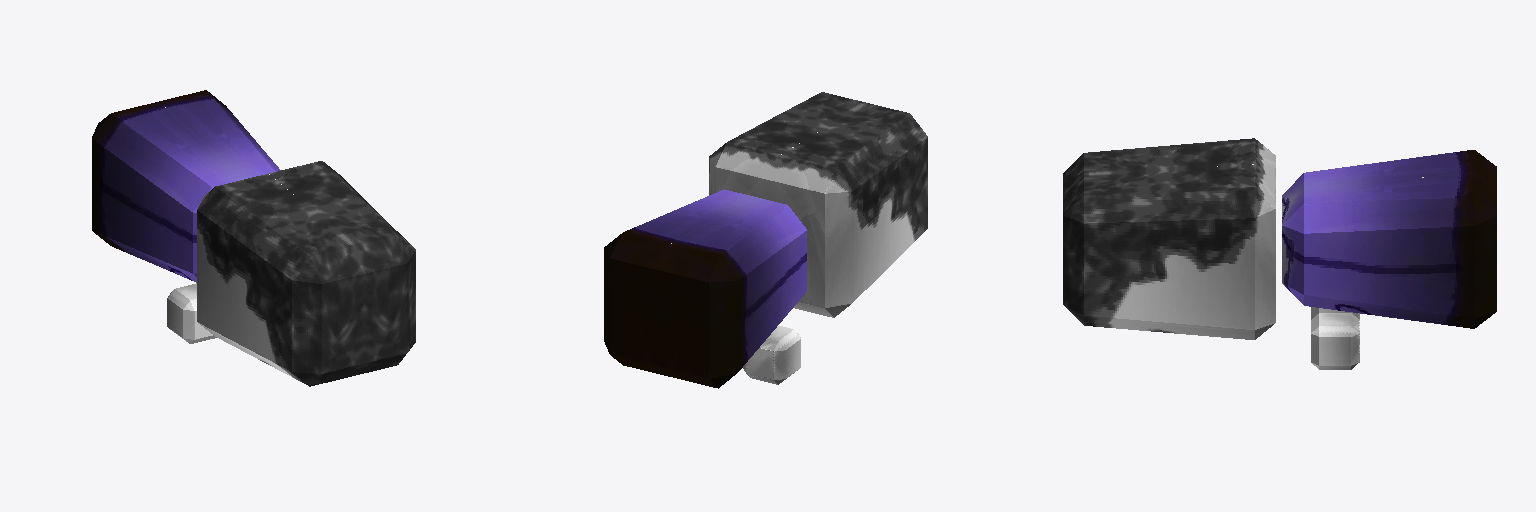
3 renders of one model, left to right at view 1: azimuth 30°, elevation 25°; view 2: azimuth 150°, elevation 25°; view 3: azimuth 270°, elevation 25°, orthographic.
Parts seen in each view (by area): view 1: Cube.005_Cube; view 2: Cube.005_Cube; view 3: Cube.005_Cube.
Boxes of the visible parts, <box> form: Cube.005_Cube: <box>92,90,415,386</box>; Cube.005_Cube: <box>604,92,927,388</box>; Cube.005_Cube: <box>1063,138,1496,369</box>.
Size of the model in its own units: 1.54 by 1.88 by 4.03.
1 materials, 1 textured.